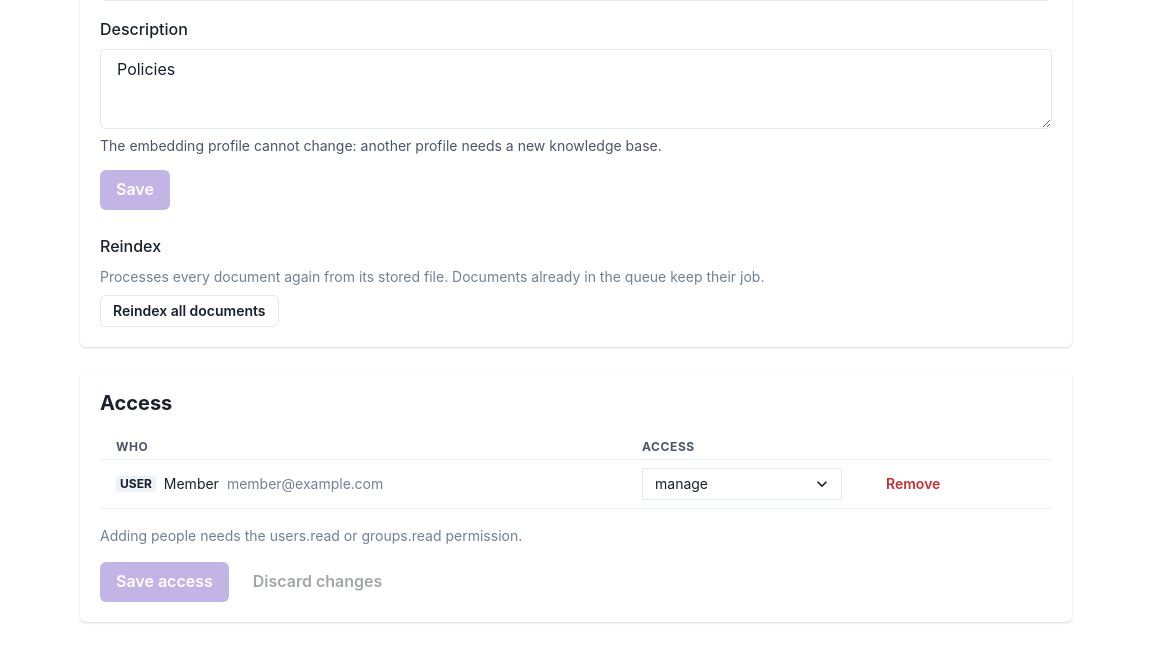
Test: knowledge base access › explains a refused change, such as losing your own manage access, and can discard it
The image size is (1152, 654).
(page scrolled)
Click the button with aria-label "Remove Member". click: (913, 484)
box: [874, 468, 952, 500]
(page scrolled)
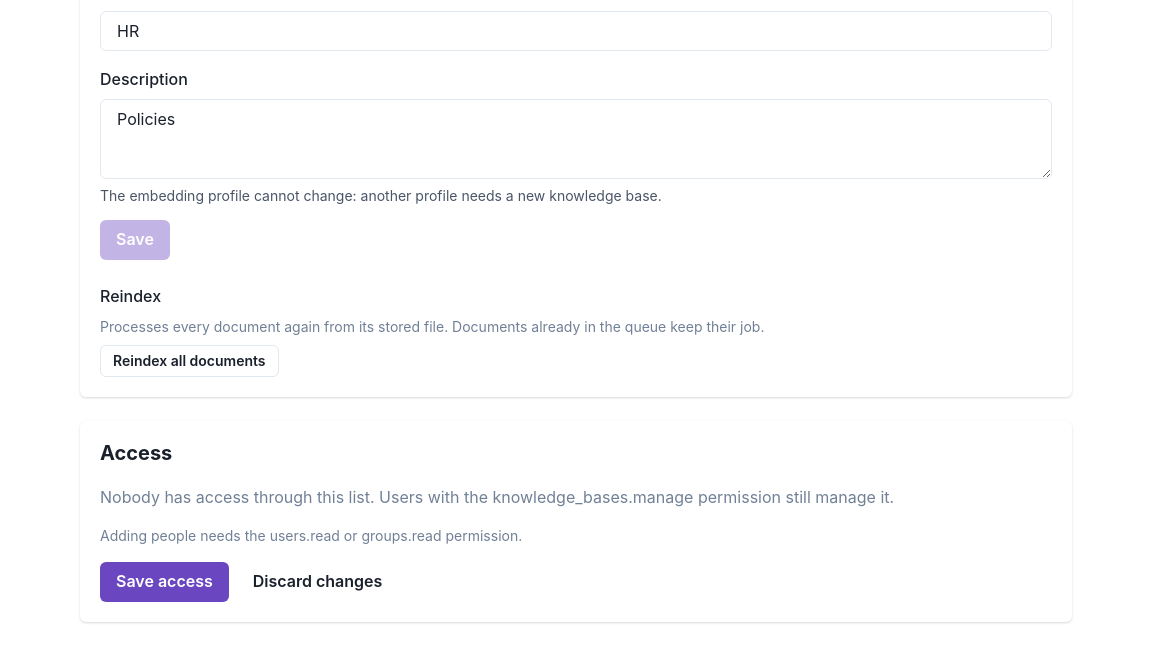
Now the text "Nobody has access through this list" is shown, box [100, 487, 894, 507]
Click the button "Save access". click: (164, 582)
box: [100, 562, 229, 602]
(page scrolled)
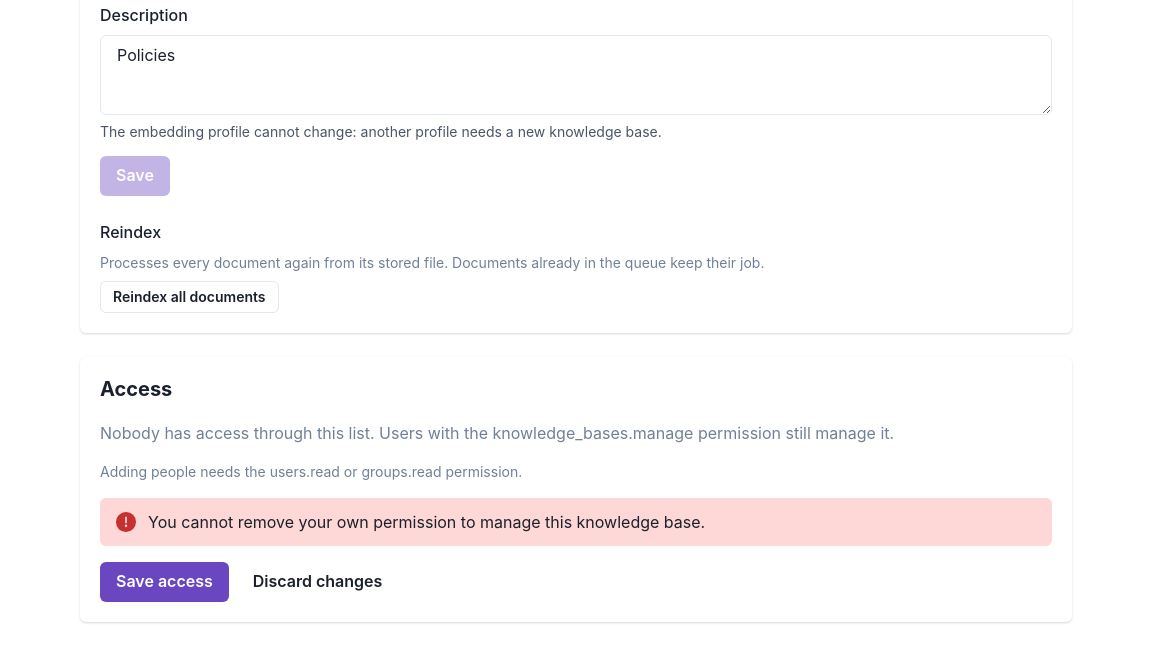
Now the message reads "You cannot remove your own permission to manage this knowledge base.", box [148, 512, 705, 532]
Click the button "Discard changes". click: (318, 582)
box: [237, 562, 398, 602]
(page scrolled)
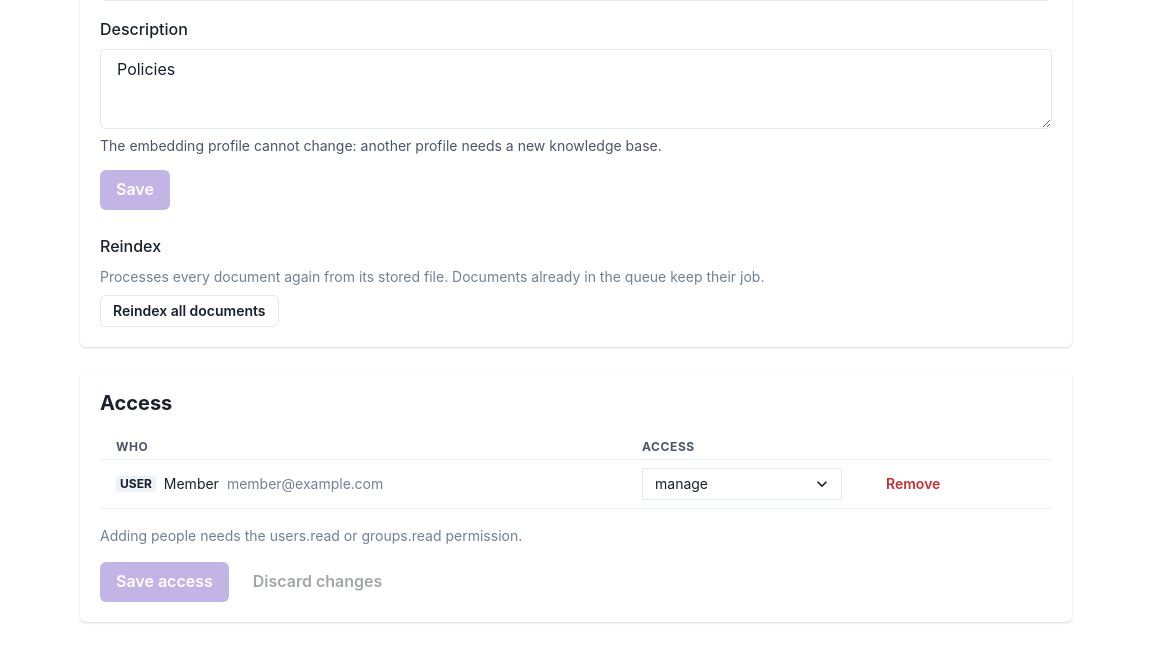
Now the text "member@example.com" is shown, box [227, 476, 383, 492]
Now the message "You cannot remove your own permission to manage this knowledge base." is gone
